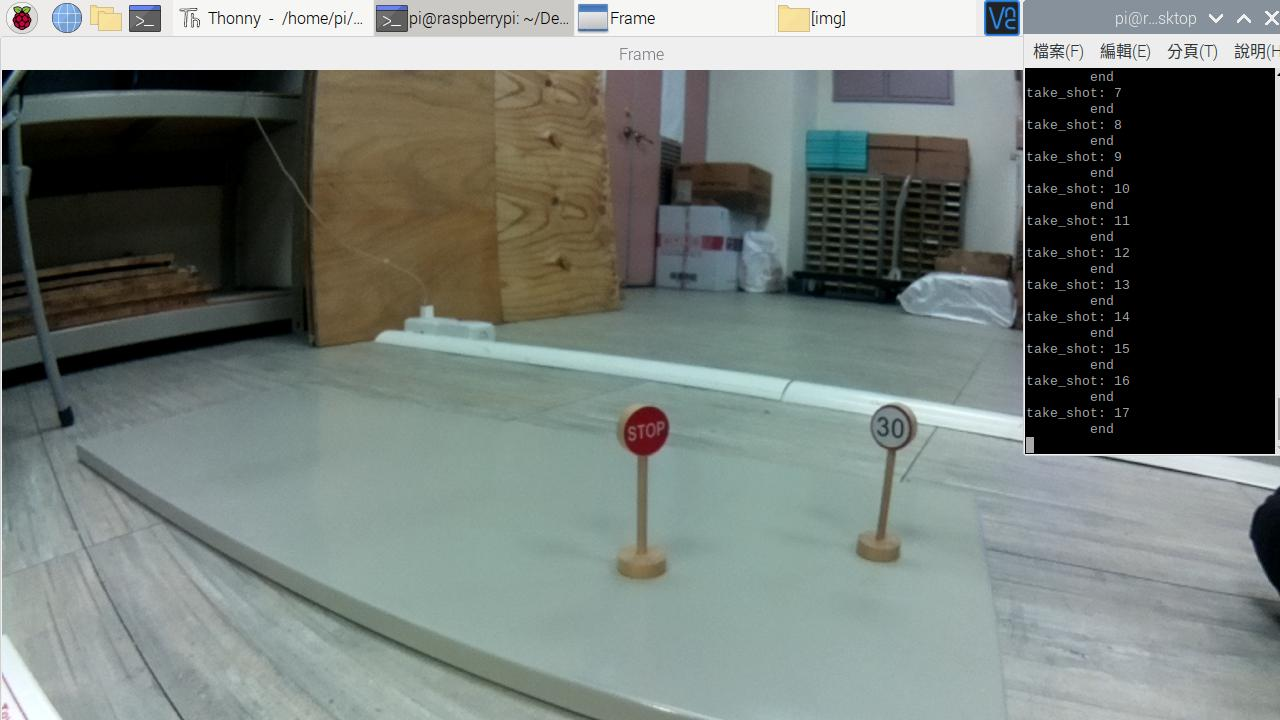Speed30: (864, 405, 920, 447)
Stop: (615, 403, 672, 455)
